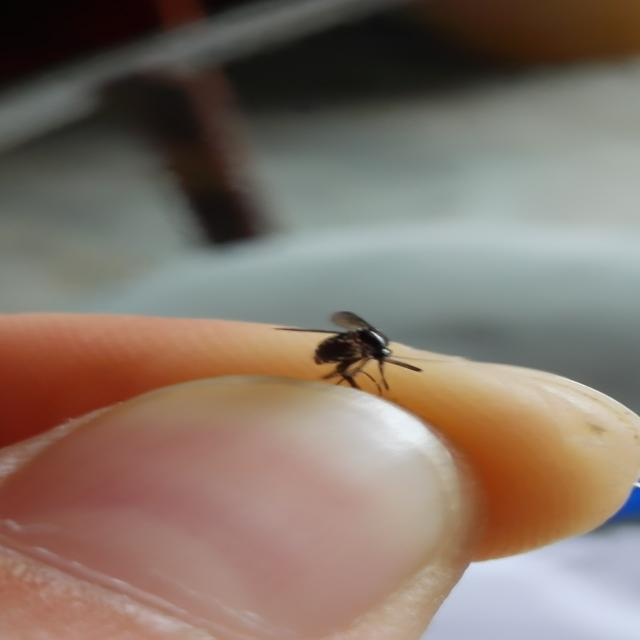albopictus: (254, 306, 428, 399)
